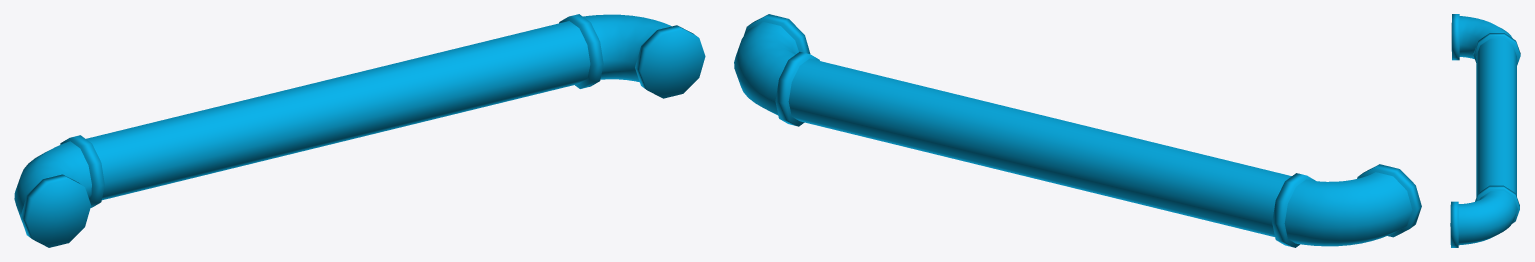
Rendered from Factory_Pipe_06_Lod0.fbx.
3 views of the same model, side by side, from view 1: azimuth 30°, elevation 25°; view 2: azimuth 150°, elevation 25°; view 3: azimuth 270°, elevation 25° (orthographic). The views are drawn at different scales.
Visible parts, largest first — view 1: Factory_Pipe_06_Lod0; view 2: Factory_Pipe_06_Lod0; view 3: Factory_Pipe_06_Lod0.
Part boxes in pixels (bbox=[...]): Factory_Pipe_06_Lod0: bbox=[14, 14, 705, 247]; Factory_Pipe_06_Lod0: bbox=[734, 14, 1421, 247]; Factory_Pipe_06_Lod0: bbox=[1450, 14, 1520, 247].
Bounding box in the file's own units: 424 × 38.53 × 60.57.
